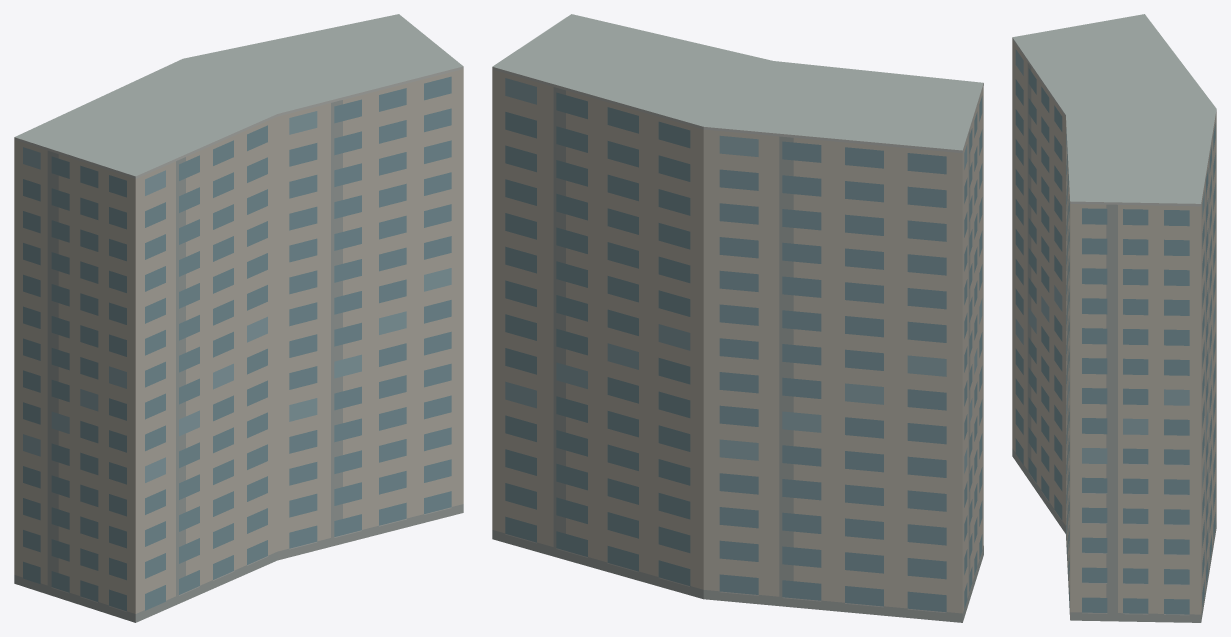
The model's file is residential-9847d190-22a2-4ba2-8c8a-d5935cc8128e.glb.
The picture shows the model from 3 angles, left to right: view 1: azimuth 30°, elevation 25°; view 2: azimuth 150°, elevation 25°; view 3: azimuth 270°, elevation 25°; orthographic projection. The views are drawn at different scales.
Visible parts, largest first — view 1: residential-9847d190-22a2-4ba2-8c8a-d5935cc8128e.tmp; view 2: residential-9847d190-22a2-4ba2-8c8a-d5935cc8128e.tmp; view 3: residential-9847d190-22a2-4ba2-8c8a-d5935cc8128e.tmp.
Part boxes in pixels (x1,y1,x2,y2): residential-9847d190-22a2-4ba2-8c8a-d5935cc8128e.tmp: [14, 14, 463, 622]; residential-9847d190-22a2-4ba2-8c8a-d5935cc8128e.tmp: [492, 14, 983, 622]; residential-9847d190-22a2-4ba2-8c8a-d5935cc8128e.tmp: [1012, 14, 1216, 622].
Bounding box in the file's own units: 40.83 × 42 × 18.57.
